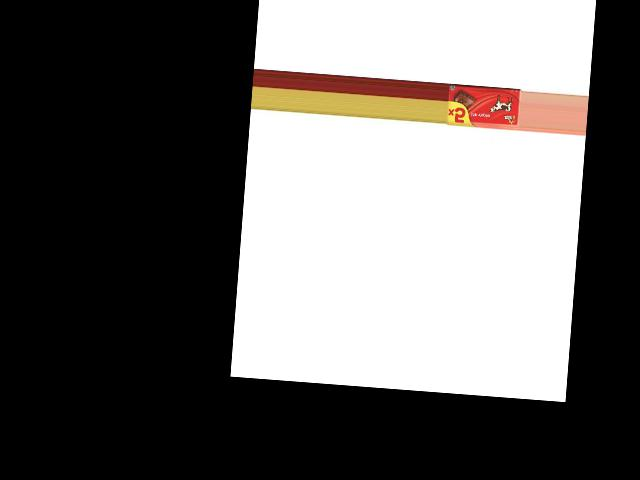chocolate: (446, 84, 522, 132)
